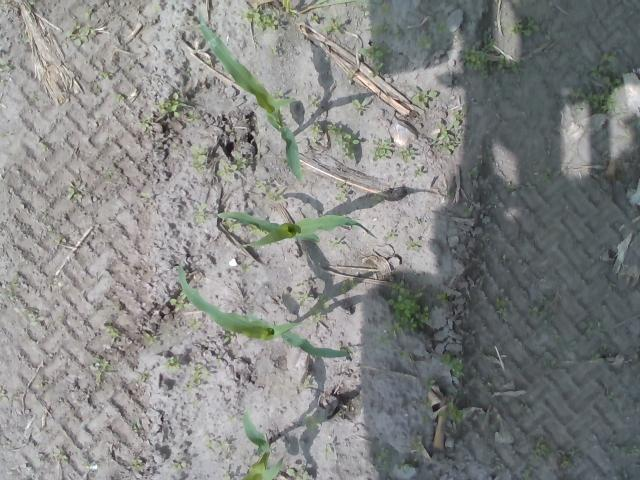Maize: (197, 10, 306, 182), (175, 264, 348, 360), (215, 212, 378, 248), (241, 405, 283, 480)
Weeds: (460, 16, 541, 76), (568, 46, 626, 117), (379, 278, 434, 344), (434, 107, 465, 154), (326, 123, 361, 161), (155, 90, 195, 122), (358, 40, 393, 74), (300, 292, 331, 324), (216, 154, 248, 178), (245, 8, 279, 30), (441, 350, 466, 378), (528, 434, 554, 460), (255, 179, 282, 202), (438, 399, 465, 422), (64, 25, 92, 46), (368, 22, 402, 39), (369, 137, 393, 160), (92, 357, 112, 384), (411, 88, 439, 106), (5, 271, 18, 302), (185, 365, 201, 390), (190, 146, 206, 171), (168, 290, 187, 311), (322, 16, 344, 34), (334, 180, 350, 204), (493, 296, 509, 320), (376, 447, 391, 472), (542, 166, 562, 184), (286, 468, 314, 480), (416, 33, 433, 51), (399, 146, 418, 162), (526, 304, 546, 318), (338, 281, 360, 293), (410, 433, 422, 454), (66, 184, 81, 200), (226, 218, 242, 233), (310, 122, 321, 143), (142, 332, 158, 346), (193, 206, 205, 224), (462, 165, 480, 177), (591, 351, 605, 365), (379, 0, 392, 15), (434, 289, 447, 304), (165, 358, 178, 372), (106, 325, 120, 338), (384, 232, 400, 243), (329, 238, 346, 248), (130, 458, 144, 470), (436, 21, 450, 33), (422, 376, 436, 388), (353, 98, 365, 112), (520, 469, 534, 480), (0, 61, 12, 73), (172, 461, 188, 470), (140, 118, 154, 128), (628, 446, 640, 457), (462, 206, 473, 218), (115, 94, 126, 105), (420, 398, 432, 408), (398, 350, 409, 360), (138, 372, 148, 381), (560, 460, 570, 469), (223, 334, 231, 345), (85, 11, 92, 18)
